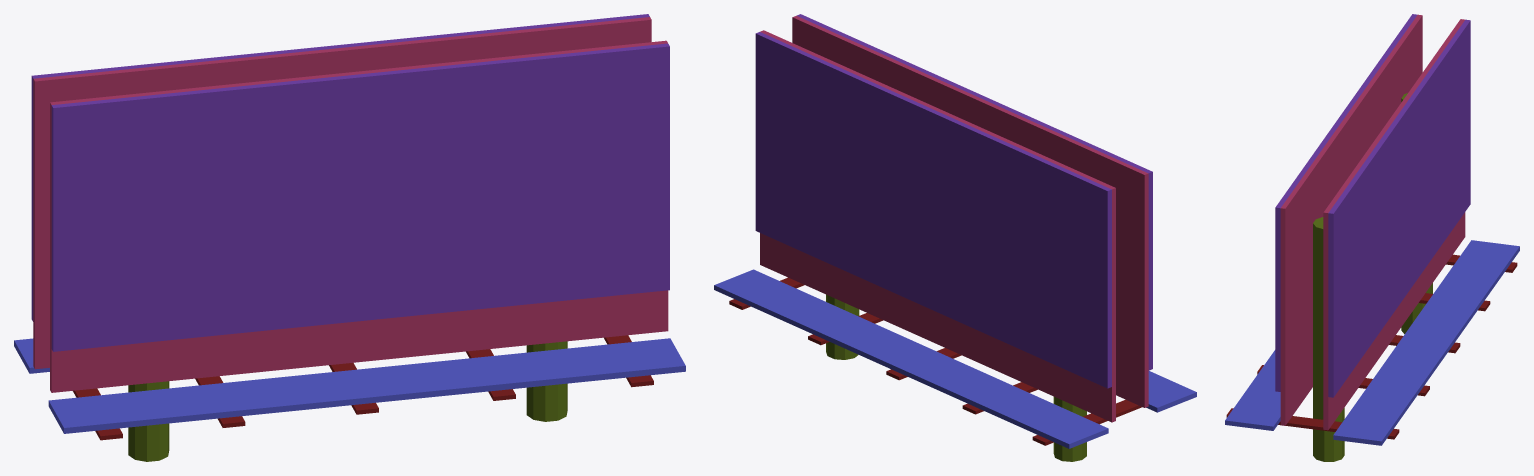
File: StartMenu_BillboardModel.fbx
3 renders of one model, left to right at view 1: azimuth 30°, elevation 25°; view 2: azimuth 150°, elevation 25°; view 3: azimuth 270°, elevation 25°, orthographic. The views are drawn at different scales.
Parts seen in each view (by area): view 1: polySurface21; view 2: polySurface21; view 3: polySurface21.
Boxes of the visible parts, left/top/right/bottom form: polySurface21: left=14, top=14, right=685, bottom=461; polySurface21: left=714, top=14, right=1196, bottom=461; polySurface21: left=1225, top=14, right=1519, bottom=461.
Bounding box in the file's own units: 29.18 × 17.73 × 16.92.
